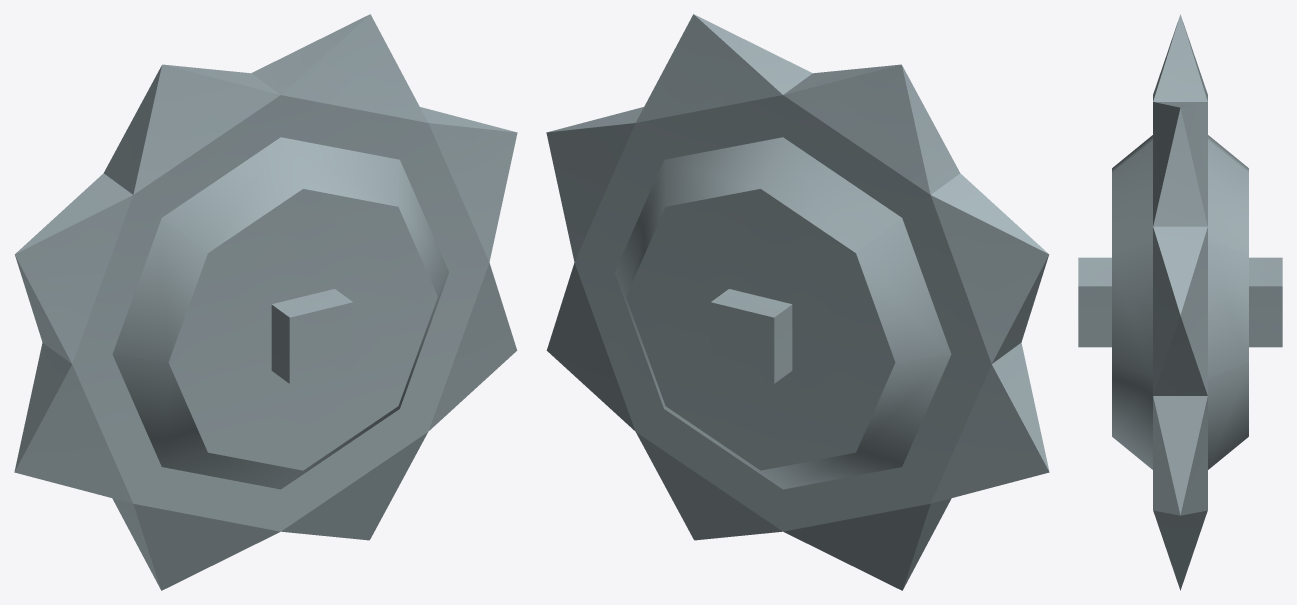
File: saw.glb
3 views of the same model, side by side, from view 1: azimuth 30°, elevation 25°; view 2: azimuth 150°, elevation 25°; view 3: azimuth 270°, elevation 25° (orthographic). The views are drawn at different scales.
Visible parts, largest first — view 1: saw; view 2: saw; view 3: saw.
Boxes of the visible parts, x1=… form: saw: x1=14, y1=14, x2=517, y2=590; saw: x1=546, y1=14, x2=1049, y2=590; saw: x1=1078, y1=14, x2=1282, y2=590.
Size of the model in its own units: 0.7937 by 0.7937 by 0.3033.
Materials: 1 (1 with a texture image).
